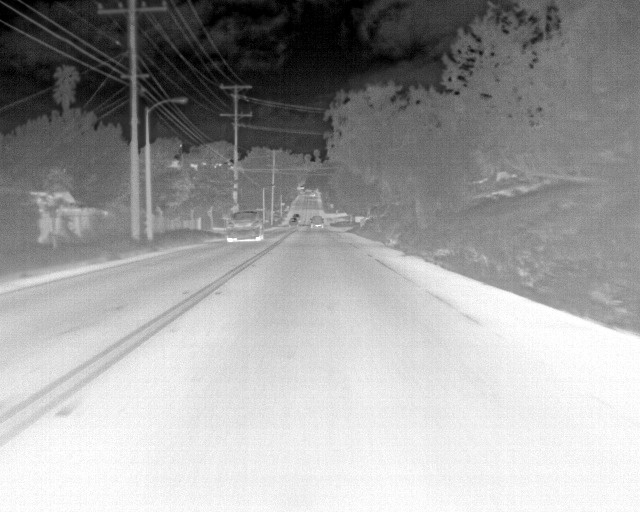vehicle: (229, 209, 267, 243), (309, 215, 324, 229)
